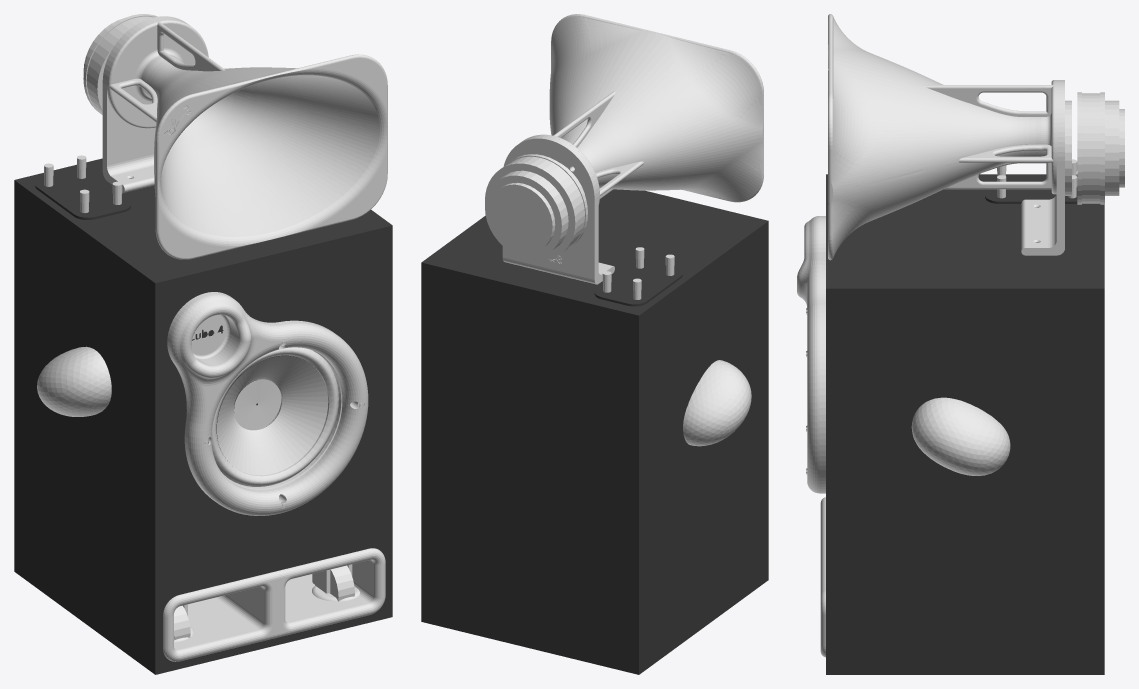
Rendered from cubo4.glb.
3 renders of one model, left to right at view 1: azimuth 30°, elevation 25°; view 2: azimuth 150°, elevation 25°; view 3: azimuth 270°, elevation 25°, orthographic. The views are drawn at different scales.
Visible parts, largest first — view 1: cabinet_std_body, horn_oval, front_metal_plate, facade_avant_hp, even_std, woofer_cone, cabinet_std_baffle, hold_left, woofer_surround, terminal_plate, woofer_dustcap, driver_oval (+4 smaller); view 2: cabinet_std_body, horn_oval, driver_oval, cabinet_std_baffle, hold_left, terminal_plate, driver_oval_metal, front_metal_plate; view 3: cabinet_std_body, horn_oval, cabinet_std_baffle, hold_right, facade_avant_hp, driver_oval, driver_oval_metal, terminal_plate, front_metal_plate, even_std.
Part boxes in pixels (x1,y1,x2,y2): cabinet_std_body: (14,158,381,666); horn_oval: (102,16,387,259); front_metal_plate: (154,224,392,674); facade_avant_hp: (167,292,368,515); even_std: (163,548,385,661); woofer_cone: (217,356,329,476); cabinet_std_baffle: (145,218,390,673); hold_left: (37,346,111,416); woofer_surround: (211,347,340,487); terminal_plate: (35,170,130,219); woofer_dustcap: (234,379,281,430); driver_oval: (83,16,153,113); cabinet_std_body: (421,191,758,674); horn_oval: (502,14,763,284); driver_oval: (485,156,584,258); cabinet_std_baffle: (611,189,767,586); hold_left: (683,360,751,446); terminal_plate: (594,261,682,306); driver_oval_metal: (485,154,587,260); front_metal_plate: (642,190,768,580); cabinet_std_body: (846,174,1104,674); horn_oval: (828,14,1064,260); cabinet_std_baffle: (828,204,846,674); hold_right: (911,397,1010,475); facade_avant_hp: (797,216,825,493); driver_oval: (1082,93,1124,203); driver_oval_metal: (1065,92,1104,204); terminal_plate: (985,175,1077,203); front_metal_plate: (826,174,827,674); even_std: (820,497,825,657).
Bounding box in the file's own units: 0.3536 × 0.5963 × 0.3152.
1 material, 1 textured.
